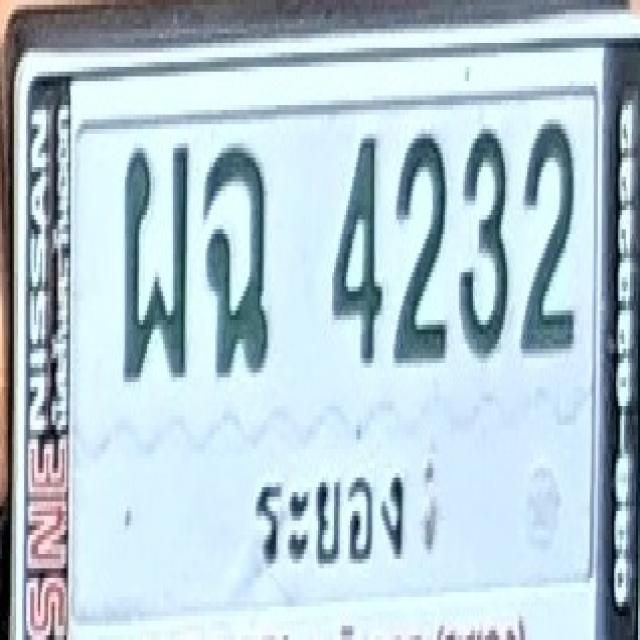2: (392, 129, 447, 363), (520, 120, 575, 353)
3: (458, 124, 508, 358)
4: (330, 132, 382, 366)
A09: (203, 144, 270, 378)
A28: (123, 141, 189, 380)
RYG: (242, 448, 417, 579)
